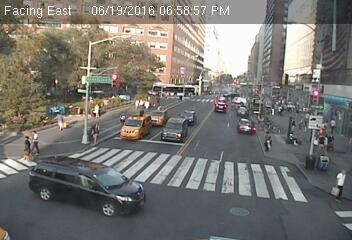neg: (45, 59, 69, 91), (73, 62, 96, 92), (271, 39, 294, 69), (74, 166, 96, 195), (150, 36, 171, 64), (21, 176, 42, 203), (155, 117, 175, 144), (311, 62, 329, 85), (178, 39, 195, 62), (72, 103, 87, 123), (215, 100, 230, 120), (233, 101, 247, 119), (72, 127, 86, 144), (45, 171, 58, 189), (305, 149, 318, 166), (252, 108, 265, 124), (46, 139, 58, 156), (243, 122, 255, 139), (145, 117, 156, 132)
pos: (327, 166, 351, 202), (15, 132, 39, 163), (24, 127, 46, 157), (258, 127, 280, 157), (50, 109, 69, 134), (86, 120, 105, 144), (313, 133, 331, 157), (326, 116, 342, 137), (90, 98, 105, 119), (324, 132, 339, 153)
